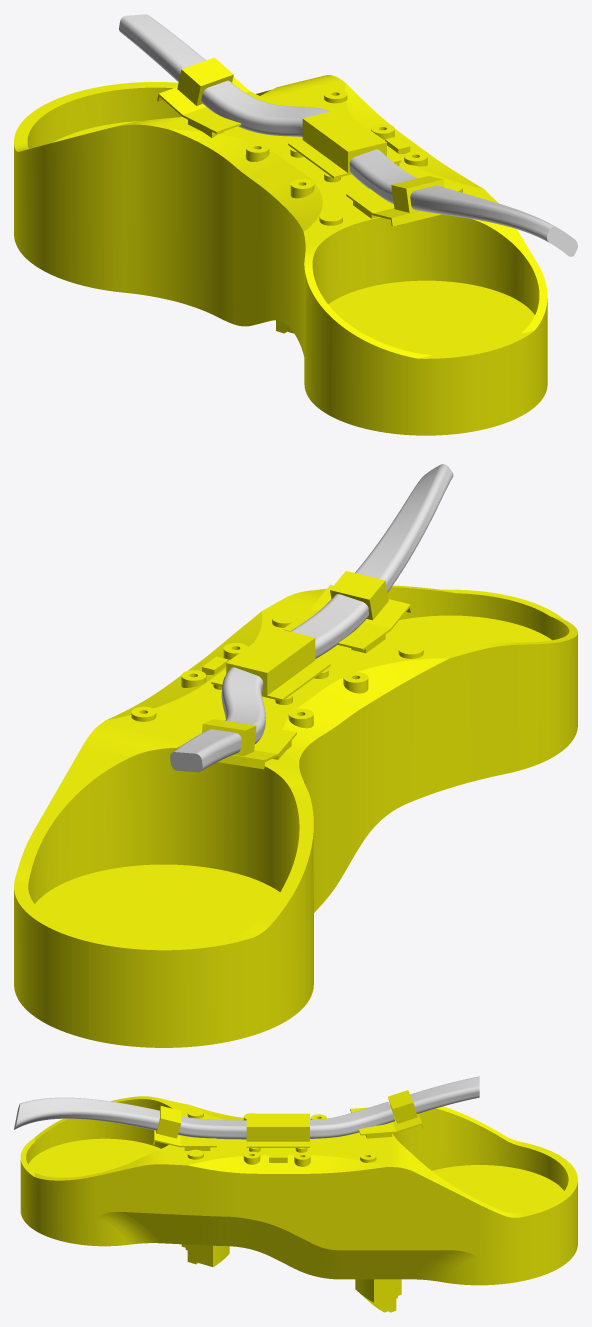
3 renders of one model, top to bottom at view 1: azimuth 30°, elevation 25°; view 2: azimuth 150°, elevation 25°; view 3: azimuth 270°, elevation 25°, orthographic. The views are drawn at different scales.
Parts seen in each view (by area): view 1: Mesh_0; view 2: Mesh_0; view 3: Mesh_0.
Boxes of the visible parts, box(x1,y1,x2,y2) form: Mesh_0: box(14, 14, 577, 435); Mesh_0: box(14, 464, 577, 1047); Mesh_0: box(14, 1076, 577, 1312).
Size of the model in its own units: 0.4199 by 0.4783 by 1.2.
